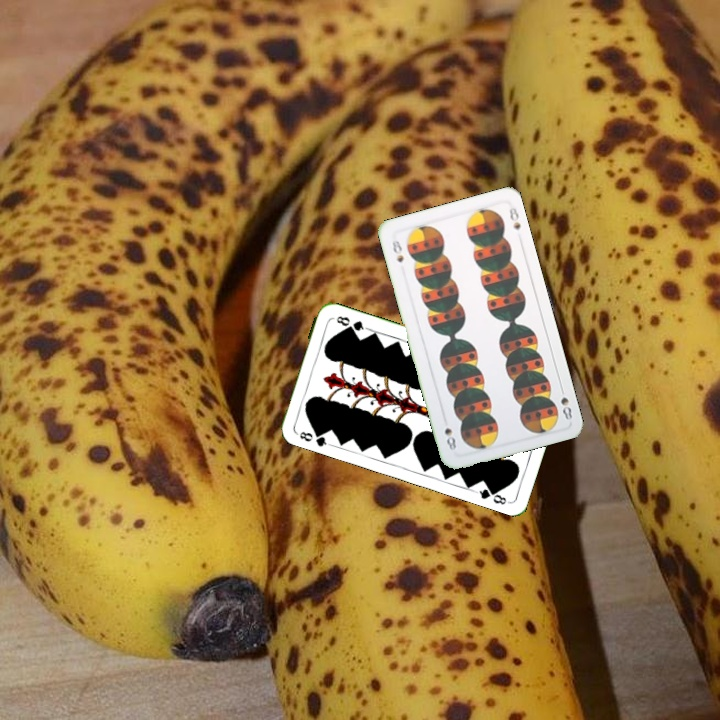G8: (295, 426, 332, 449)
S8: (556, 382, 575, 422), (388, 236, 406, 265)
